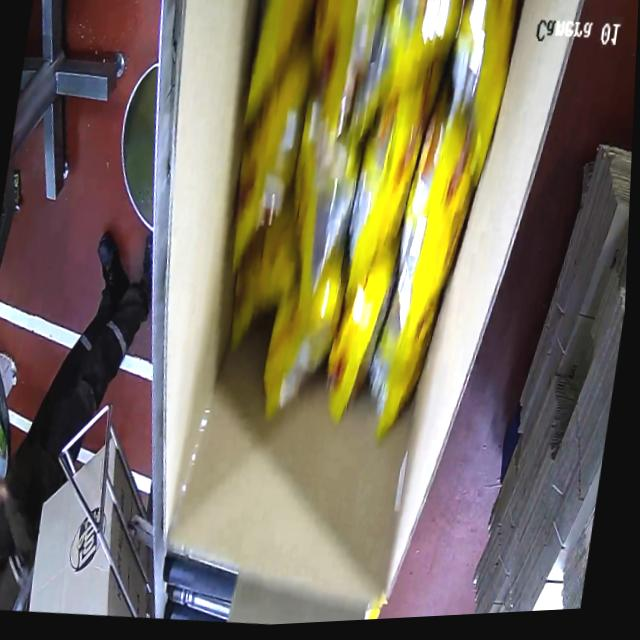SALTED: (193, 0, 520, 458)
